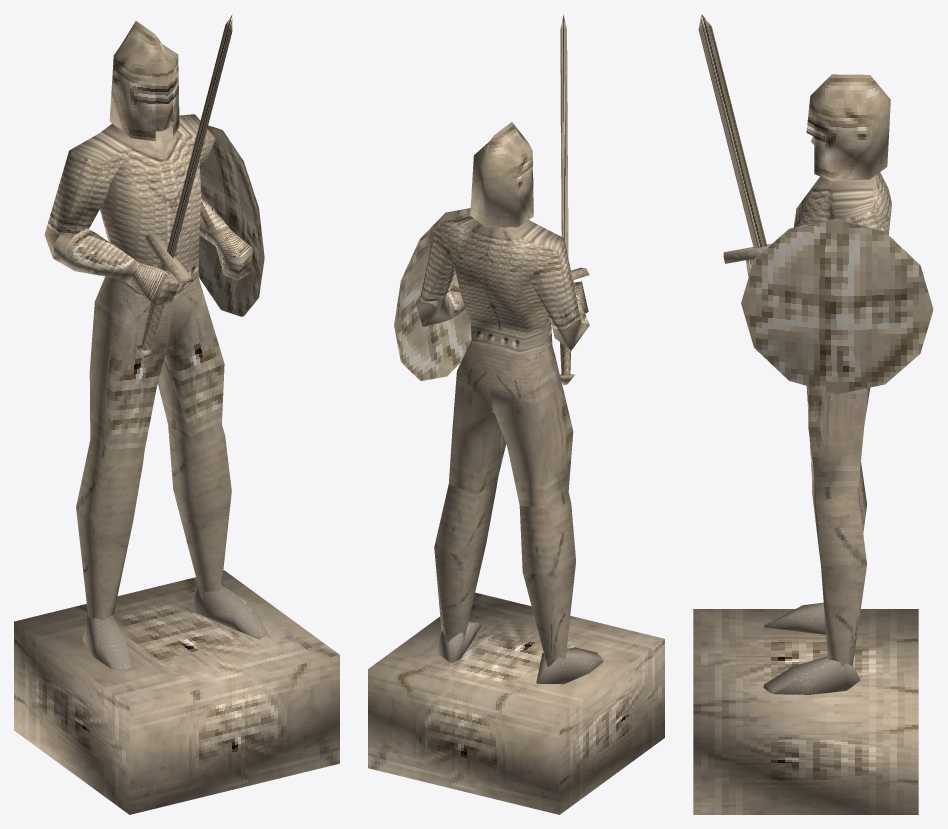
The model's file is FREEPORTSTATUE_ACTORDEF.fbx.
3 views of the same model, side by side, from view 1: azimuth 30°, elevation 25°; view 2: azimuth 150°, elevation 25°; view 3: azimuth 270°, elevation 25° (orthographic). The views are drawn at different scales.
Visible parts, largest first — view 1: U3DMesh; view 2: U3DMesh; view 3: U3DMesh.
Boxes of the visible parts, x1,y1,x2,y2 form: U3DMesh: (14, 14, 339, 814); U3DMesh: (368, 15, 664, 814); U3DMesh: (693, 14, 933, 814).
Size of the model in its own units: 2.51 by 8.82 by 2.55.
